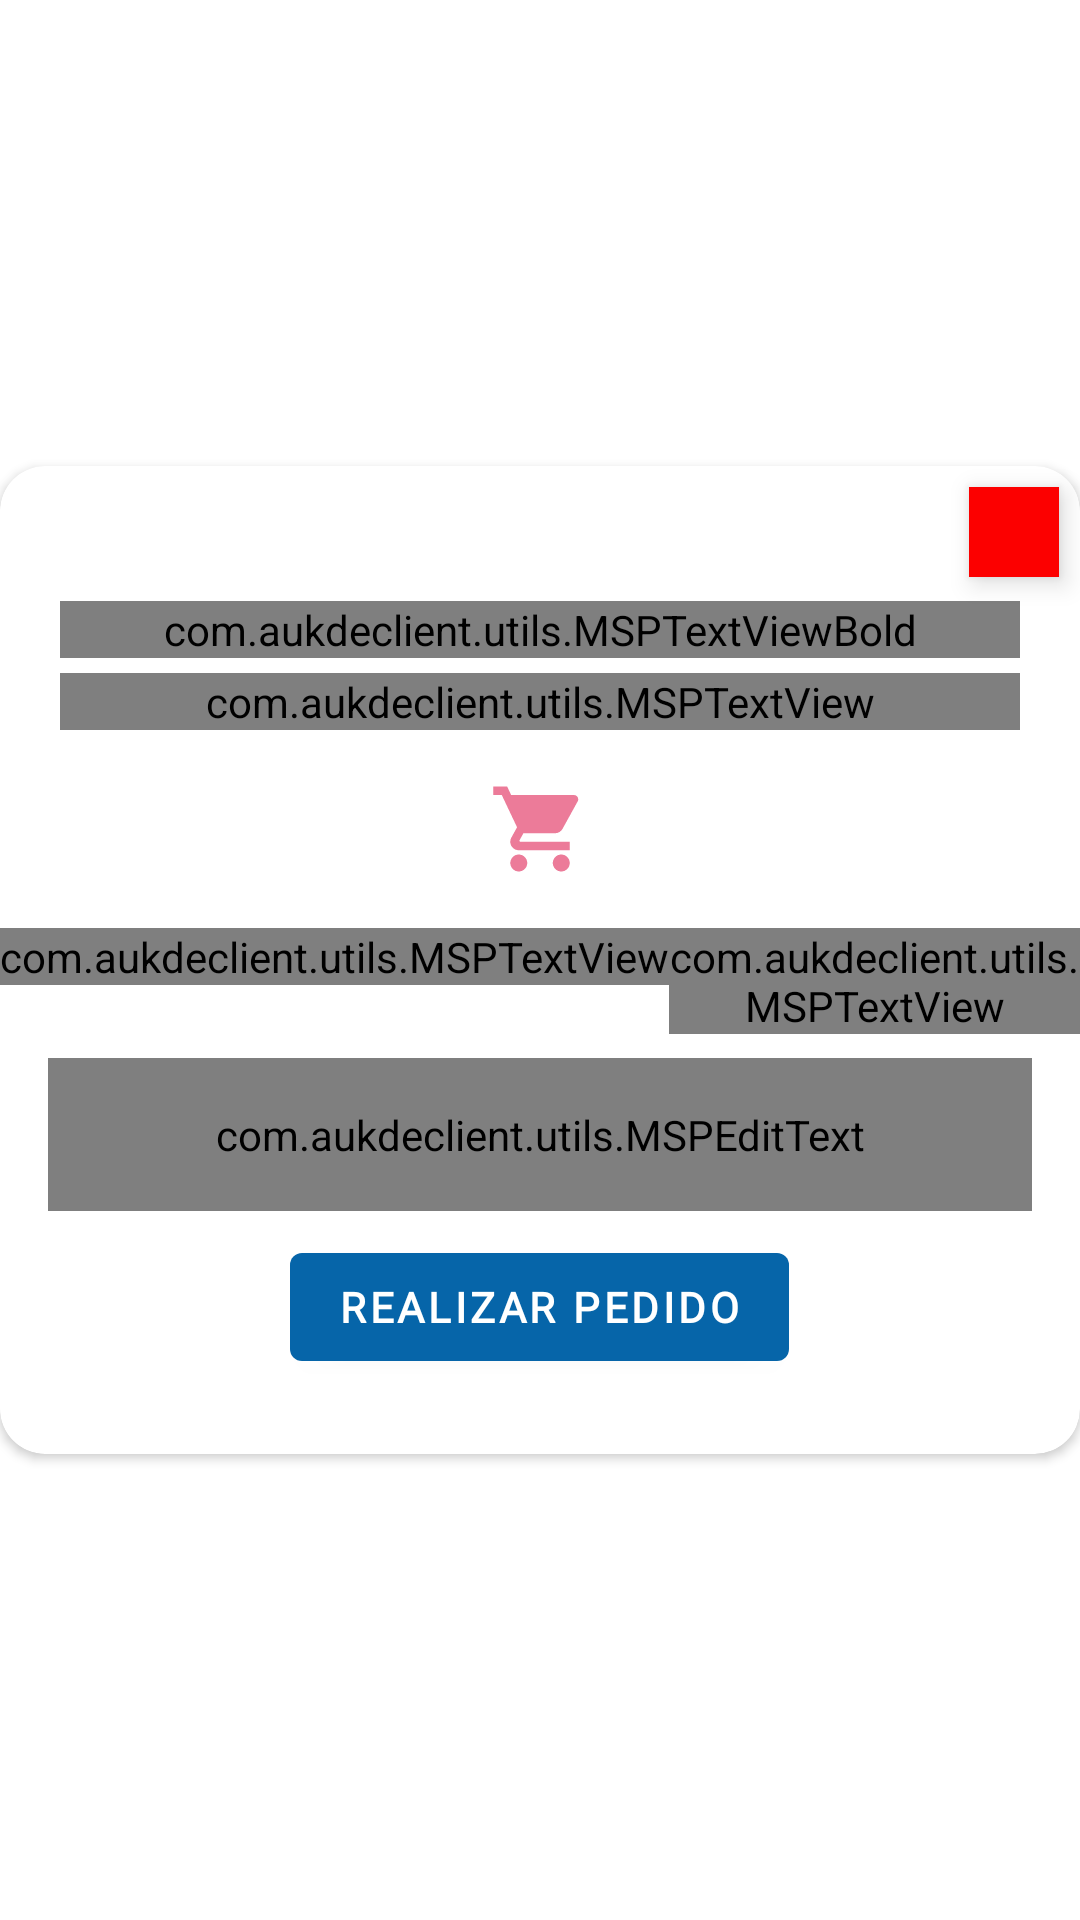

Named icons in this screenshot (1080w x 1920h) and their centers, point (x, y):
shopping: point (536, 829)
